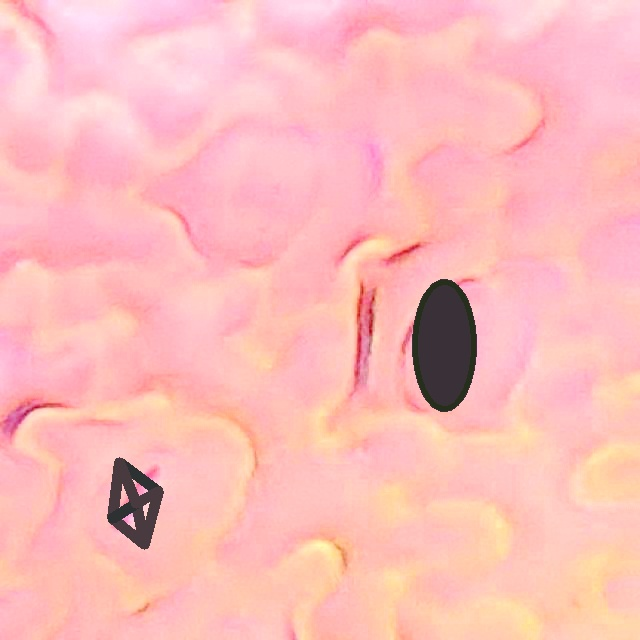close: (412, 280, 475, 411)
open: (108, 458, 163, 548)
